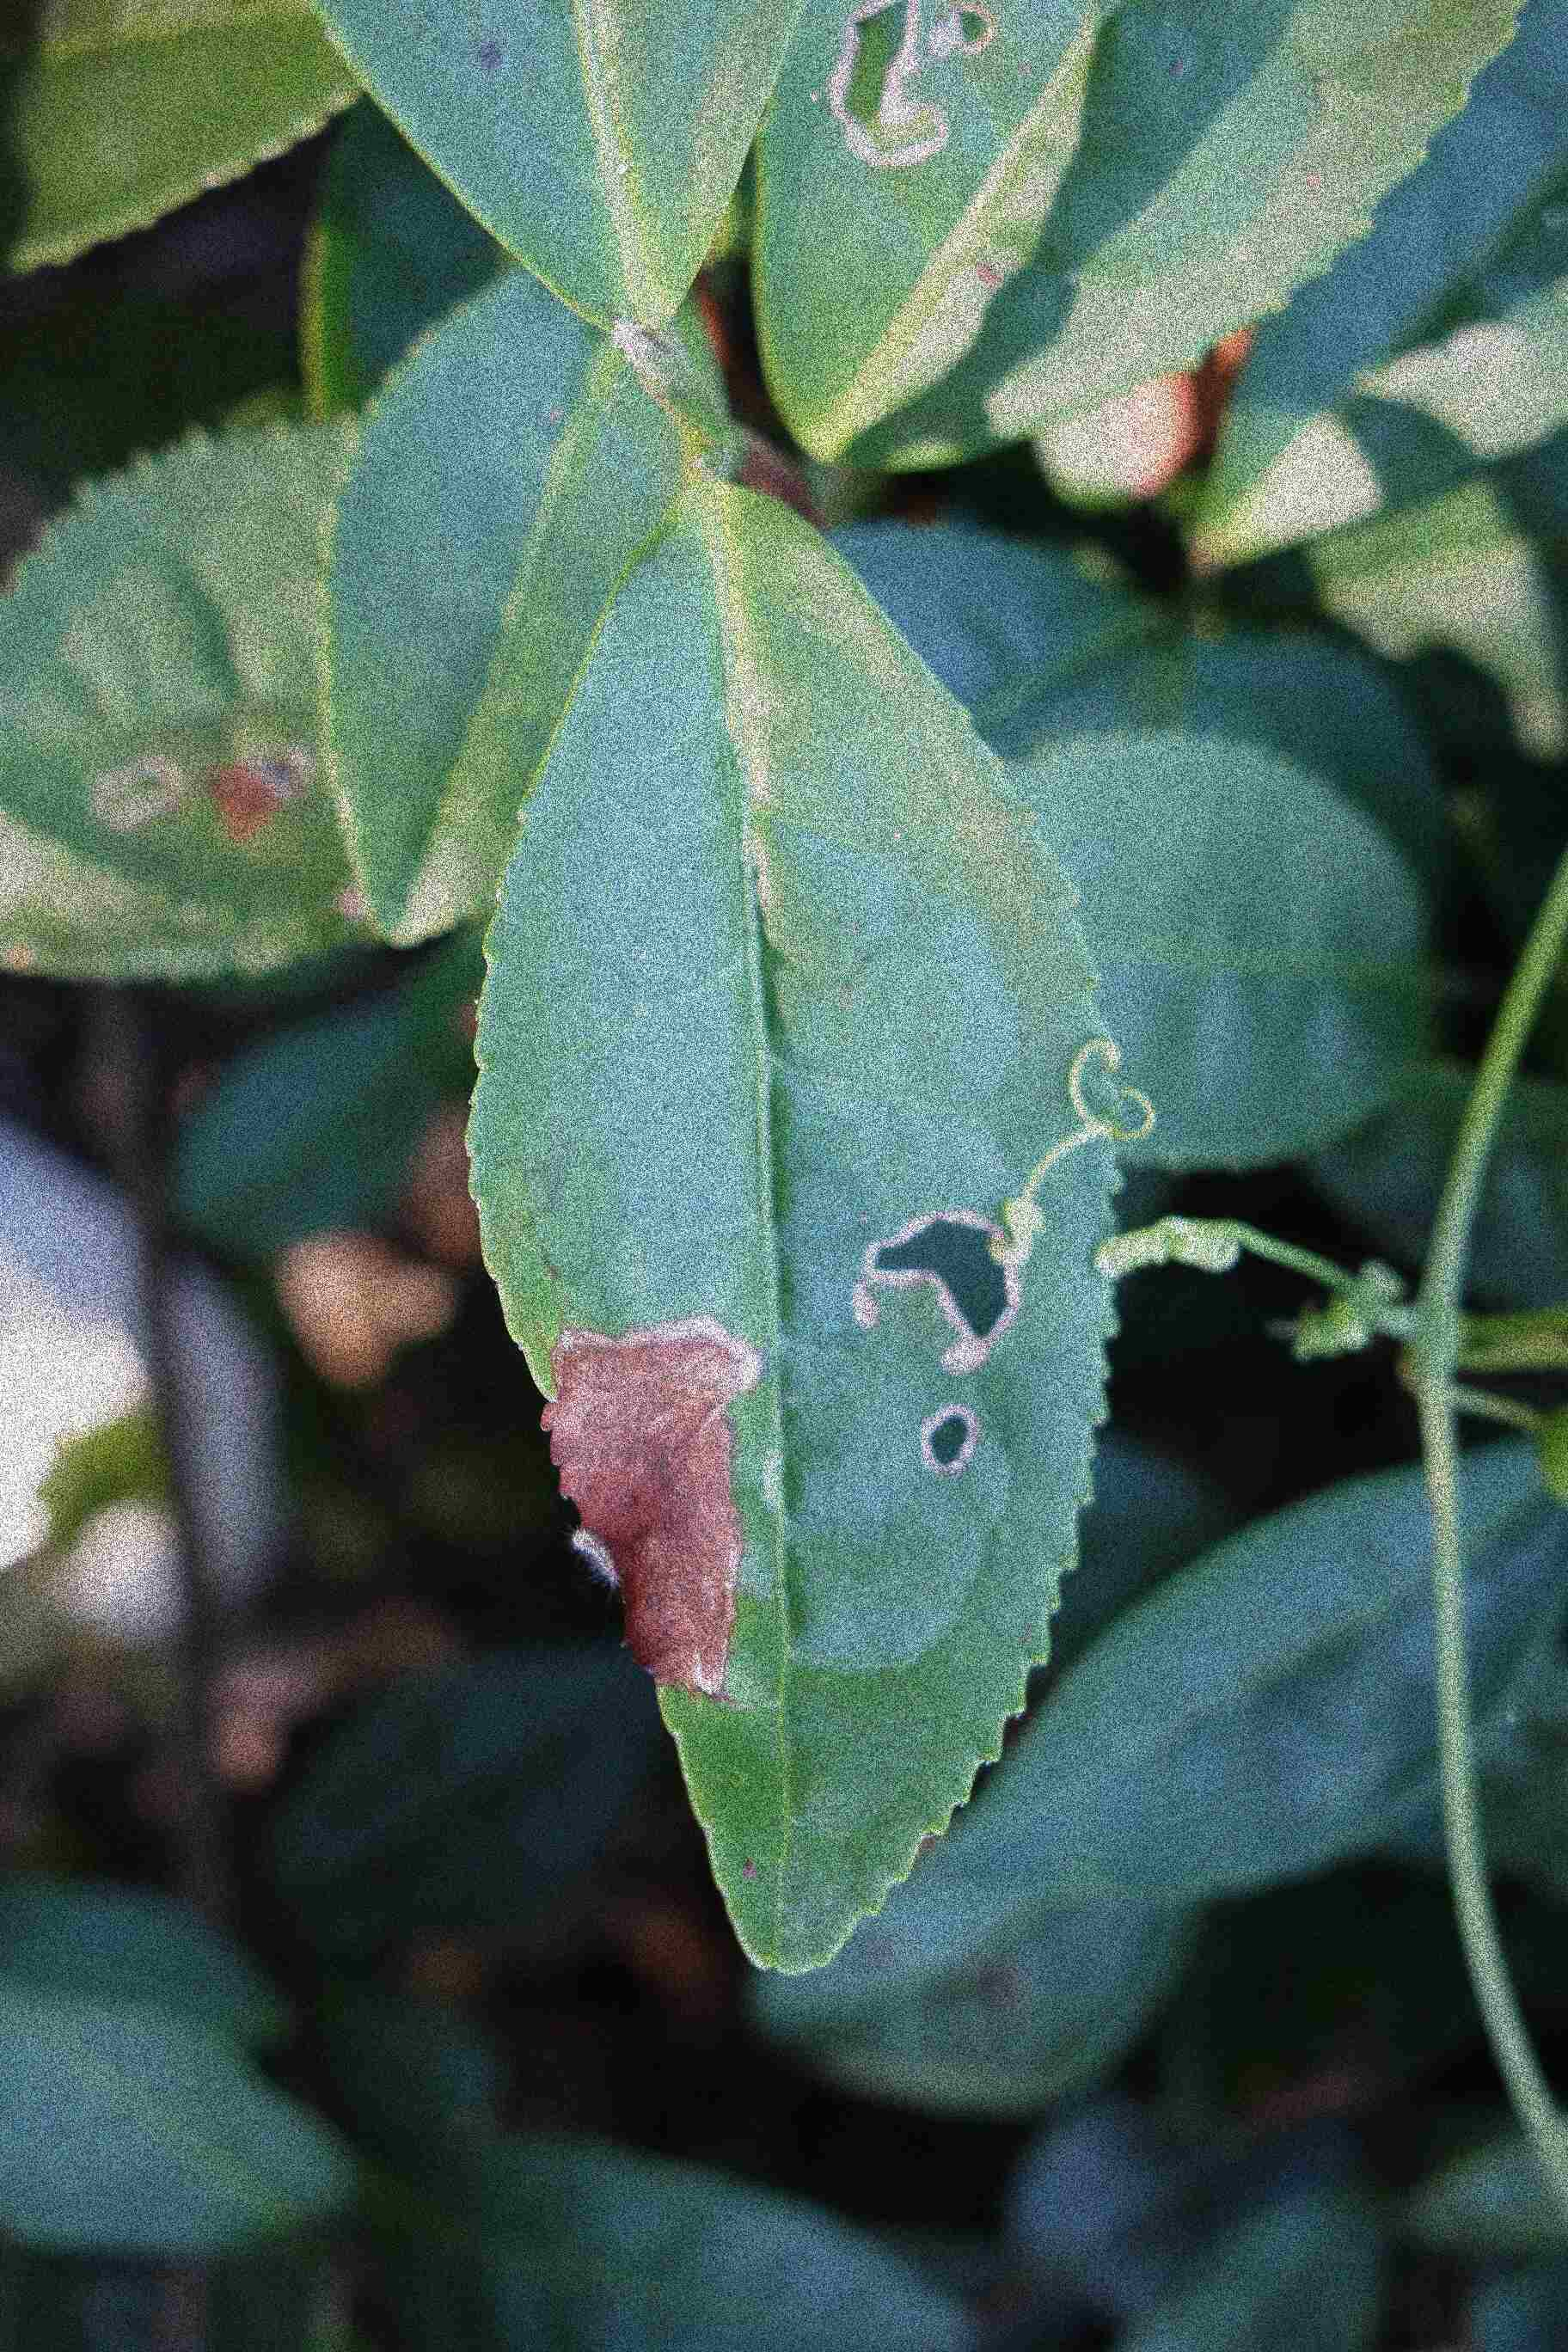chihuo_high: (756, 0, 1531, 472)
tanju_high: (460, 474, 1120, 1981)
